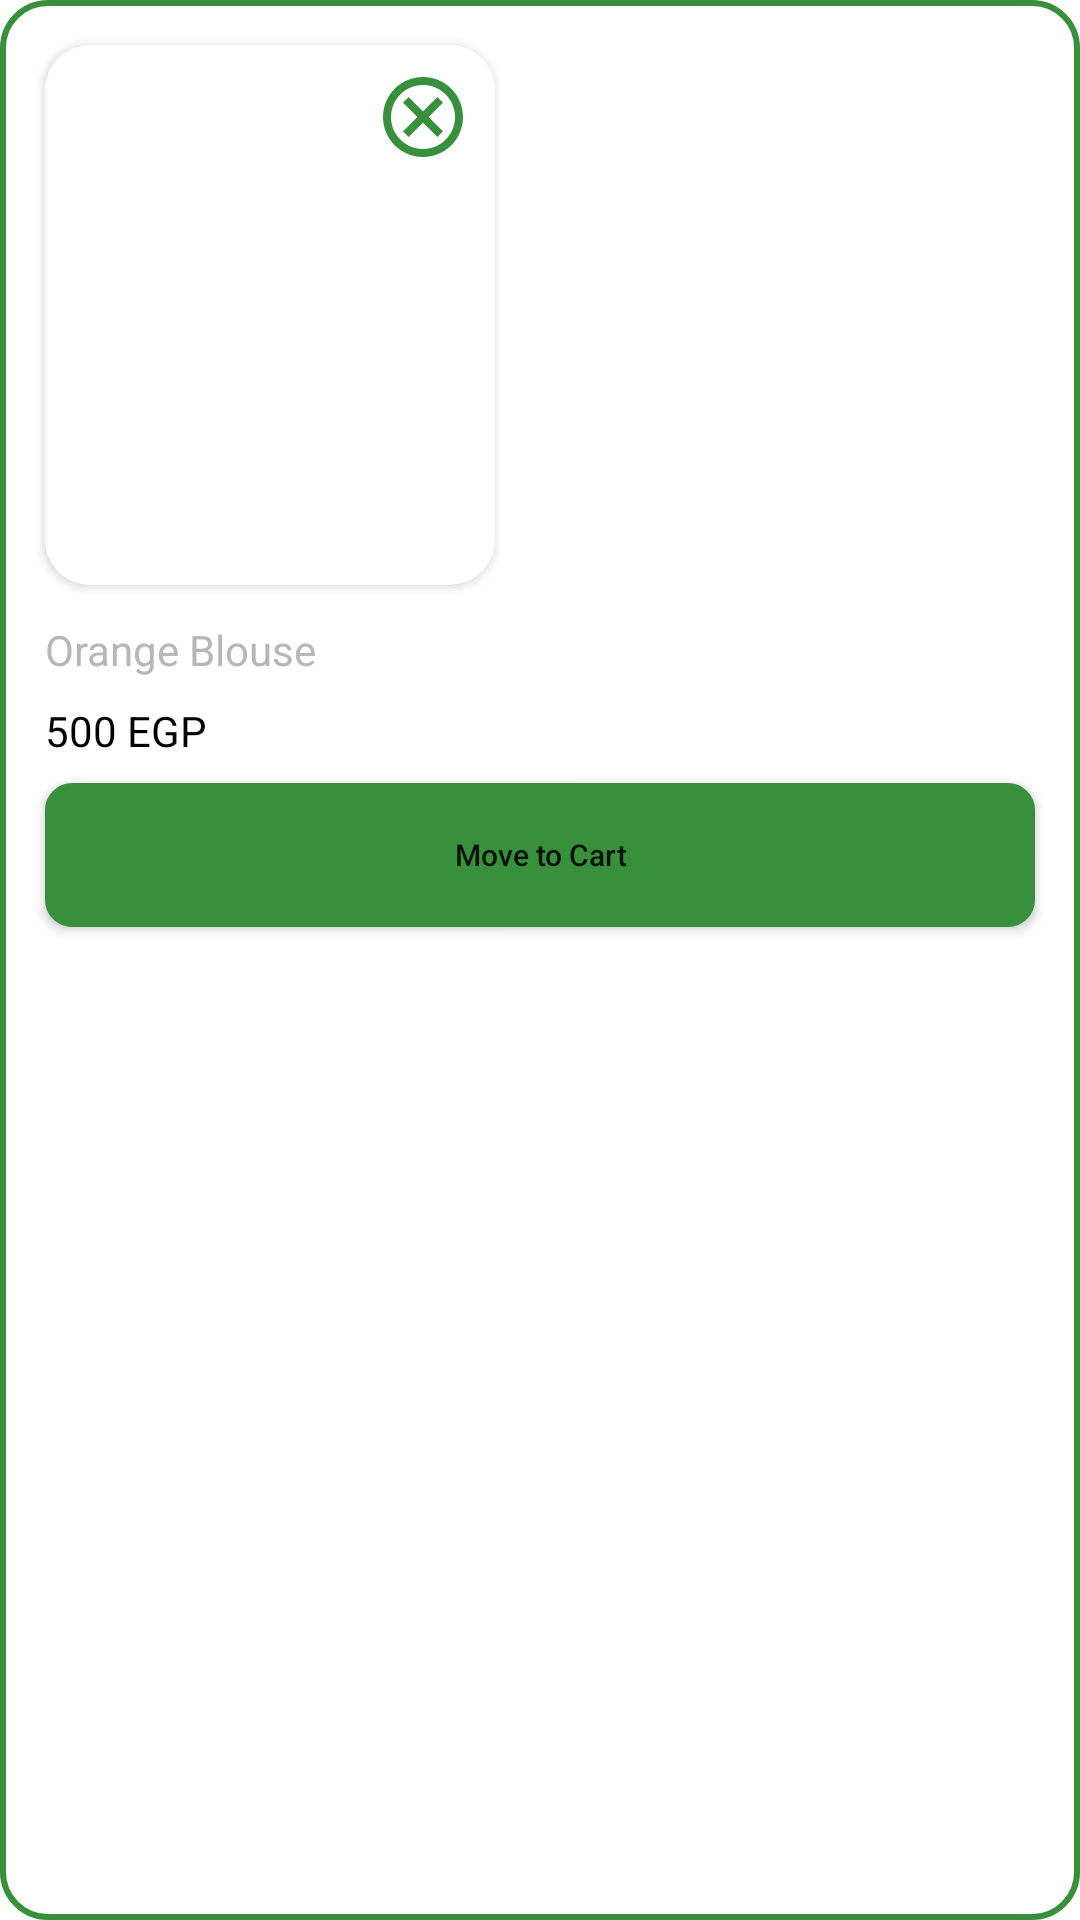

Icon bounding boxes for this 1080w x 1920h phone screenshot, format (x1=x1, y1=y1, x2=x2, y2=y2):
cancel: (x1=383, y1=77, x2=463, y2=157)
